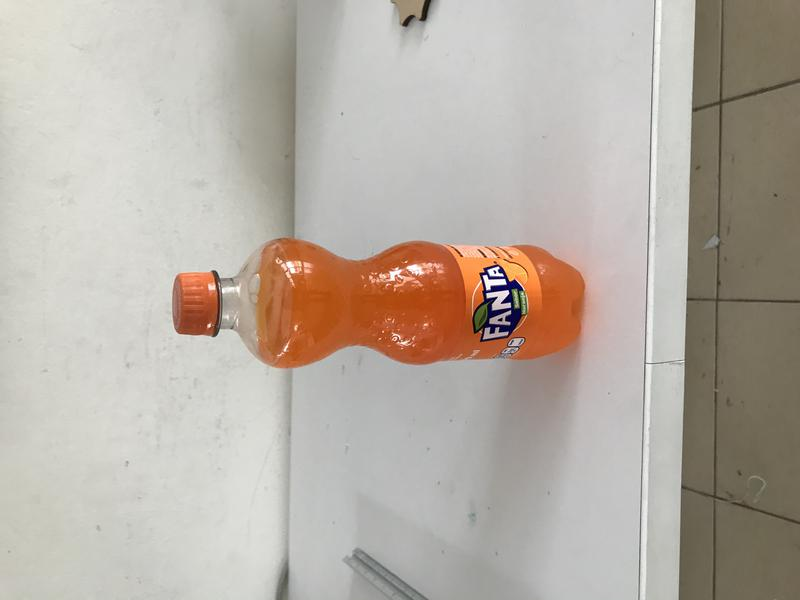fanta: (170, 237, 585, 370)
